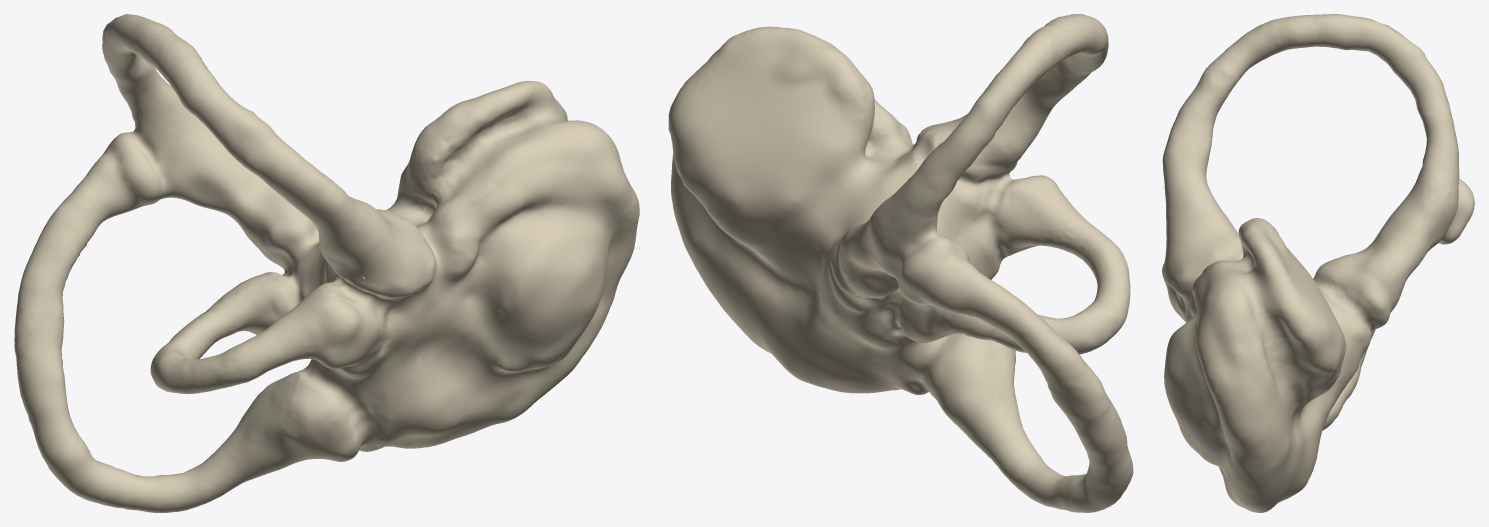
Rendered from ear-study.glb.
3 views of the same model, side by side, from view 1: azimuth 30°, elevation 25°; view 2: azimuth 150°, elevation 25°; view 3: azimuth 270°, elevation 25° (orthographic). The views are drawn at different scales.
Parts seen in each view (by area): view 1: cochlea_study; view 2: cochlea_study; view 3: cochlea_study.
Part boxes in pixels (<box>): cochlea_study: <box>14,14,639,512</box>; cochlea_study: <box>668,14,1133,512</box>; cochlea_study: <box>1162,14,1474,512</box>.
Bounding box in the file's own units: 0.12 × 0.1043 × 0.0722.
